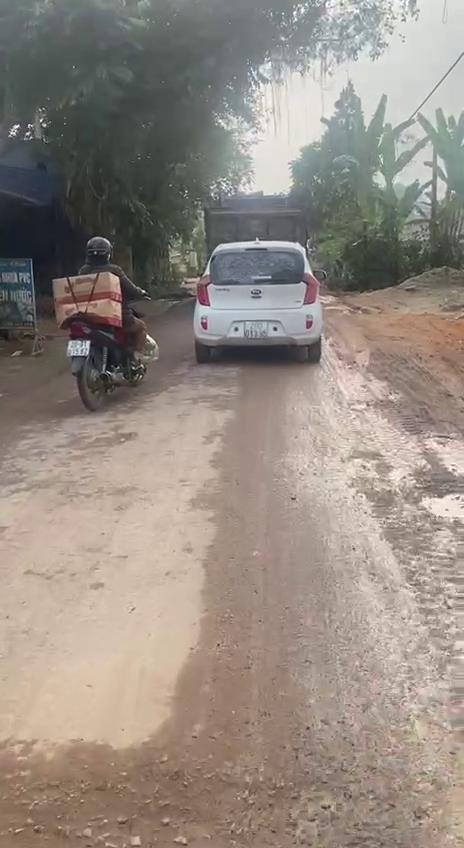pothole: (0, 766, 362, 848), (406, 466, 464, 532)
